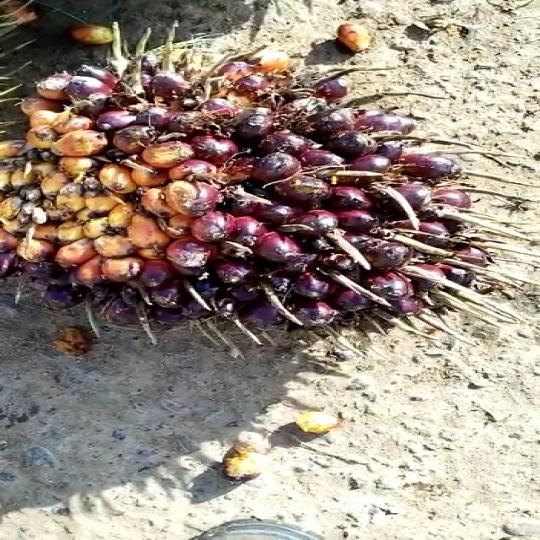kurang masak: (0, 39, 518, 352)
